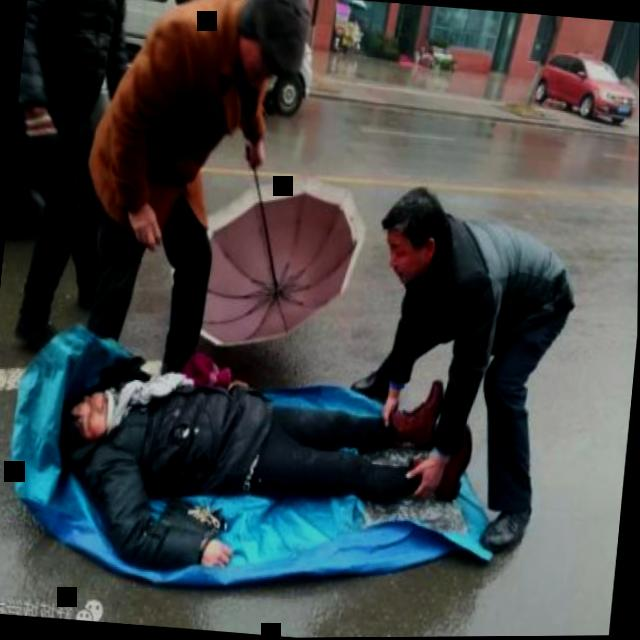Fall-Detected: (12, 302, 476, 614)
